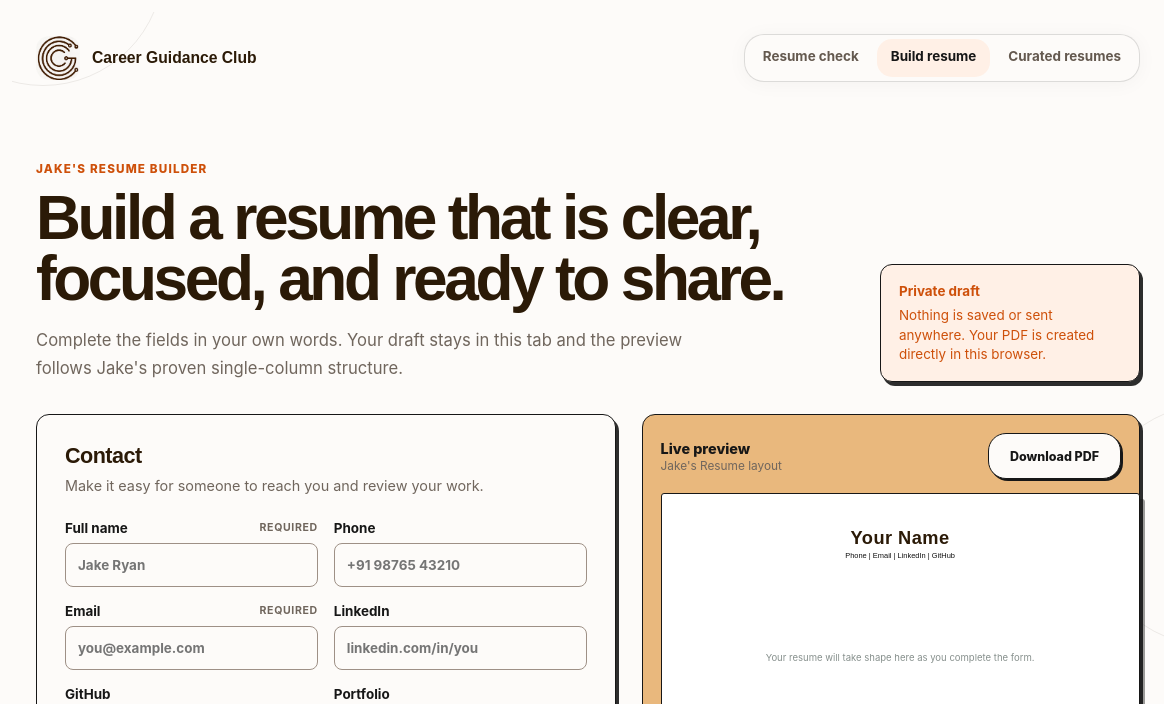
Test: resume upload screen › validates the draft before requesting a PDF
Click the button "Download PDF" at (1054, 456), box [988, 434, 1121, 480]
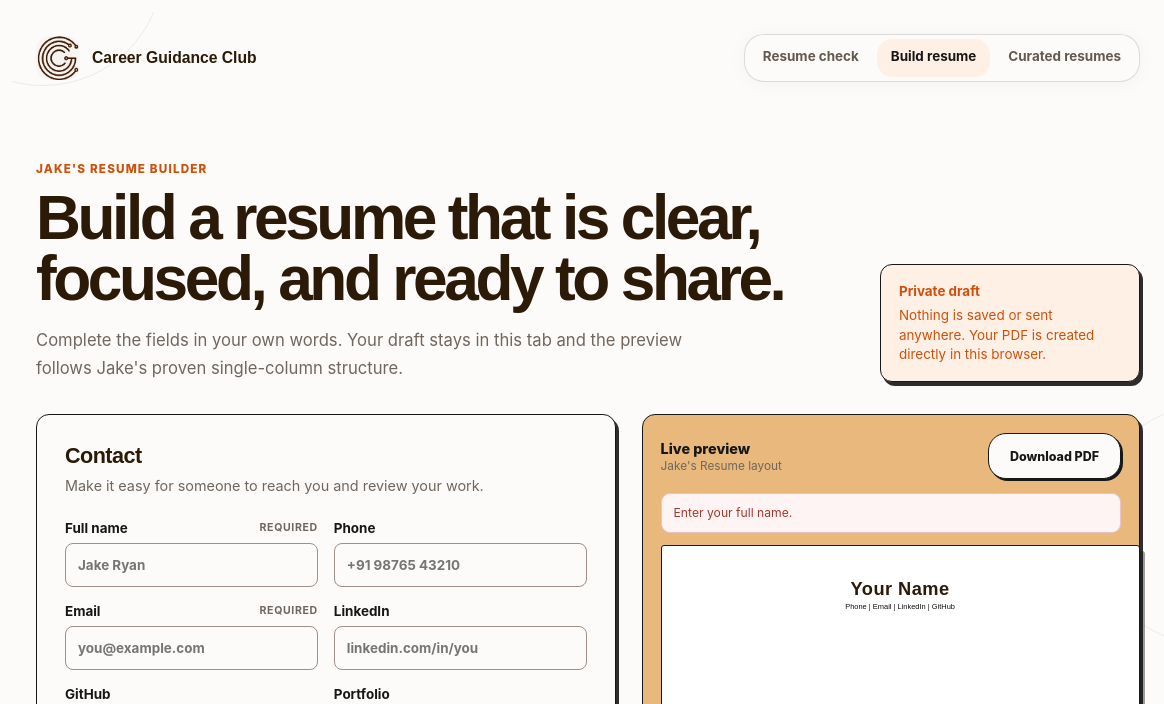
Result: the message shows "Enter your full name" at [674, 506, 792, 520]
